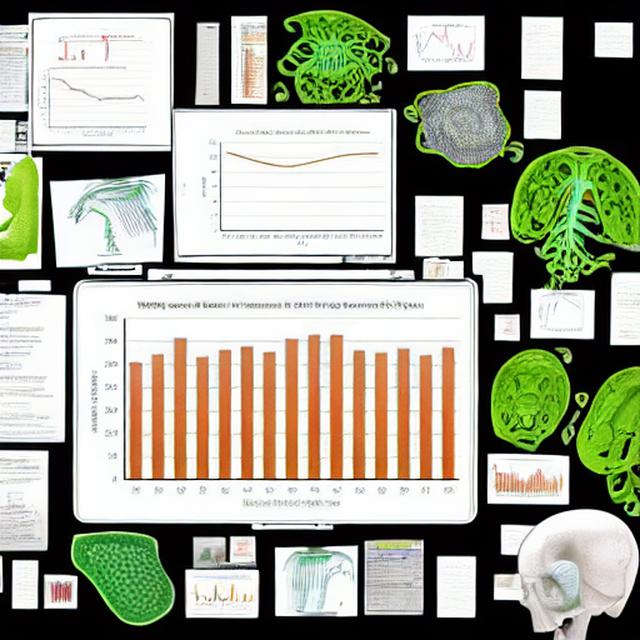Graph: (82, 288, 470, 520), (197, 126, 388, 249), (36, 64, 149, 139), (413, 17, 481, 68), (488, 458, 558, 502), (188, 574, 254, 613), (534, 291, 590, 333)
